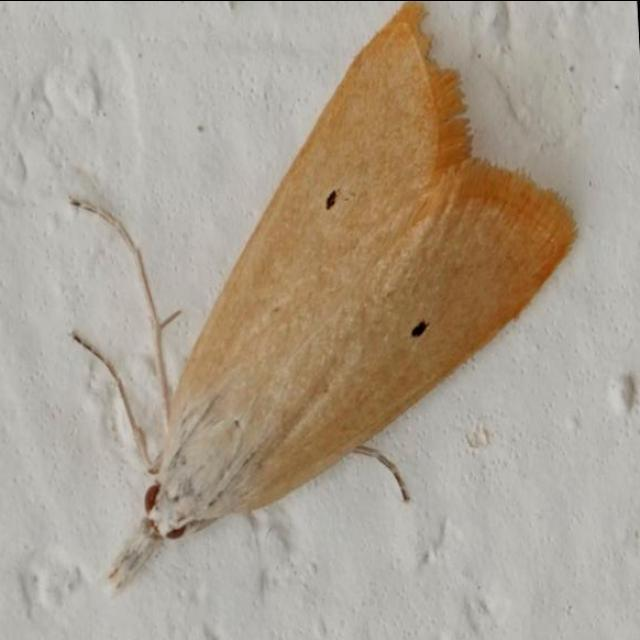stem borer: (71, 1, 573, 589)
